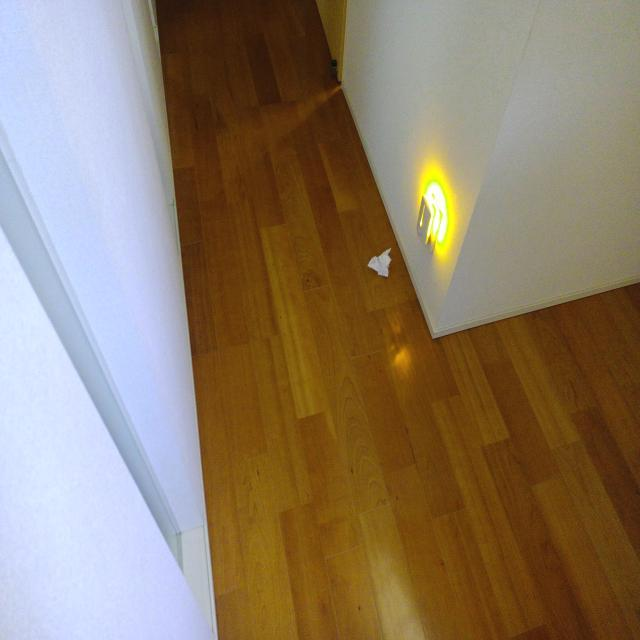Paper: (358, 242, 396, 288)
